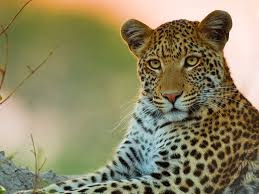leopard: (32, 8, 258, 194)
